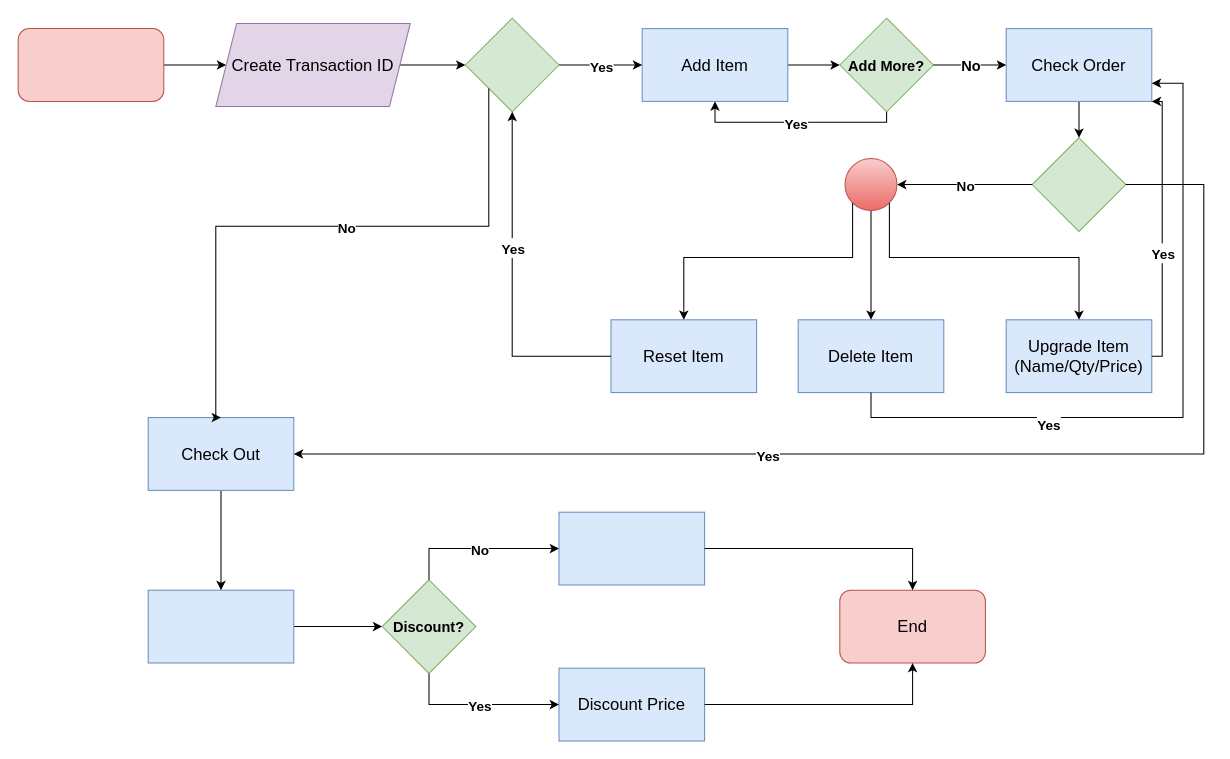
This 1230x759 diagram has some shape labels left out. Here are the shapes that lost their labels. From the top down, the centre of each, then its label:
point 90,64: Start
point 511,64: Add Item?
point 1078,184: Order Correct?
point 631,548: Normal Price
point 220,626: Total Price
